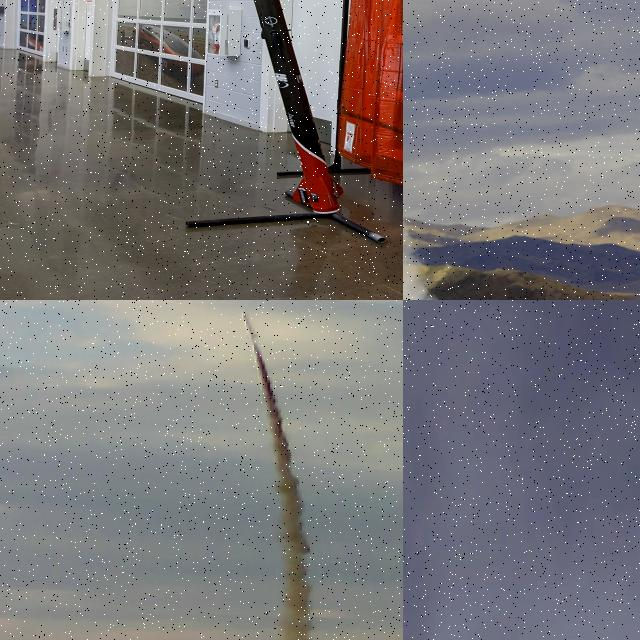Rocket: (253, 0, 344, 214), (241, 312, 260, 341)
